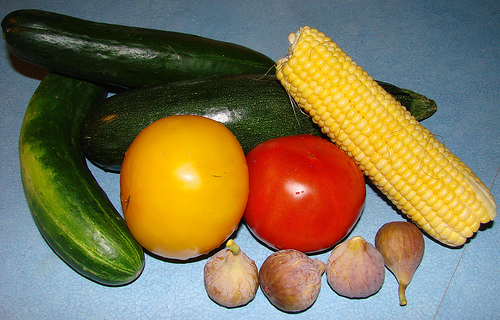corn: (277, 26, 493, 247)
